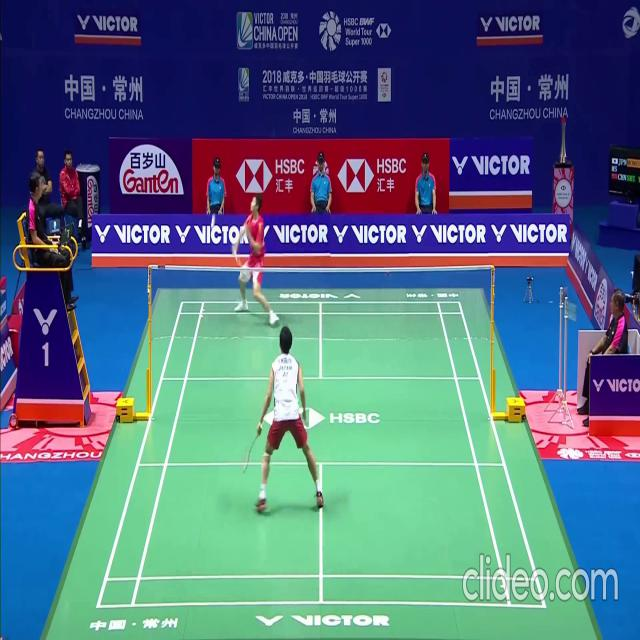Shuttlecock: (210, 224, 215, 231)
